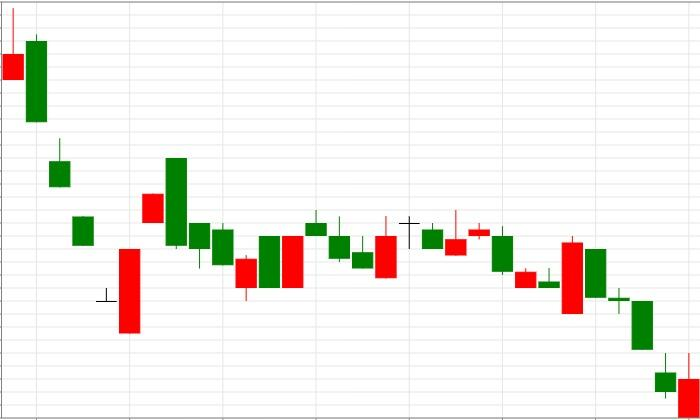bearish_engulfing_fall: (96, 157, 187, 334)
bullish_engulfing_rise: (305, 209, 397, 279)
